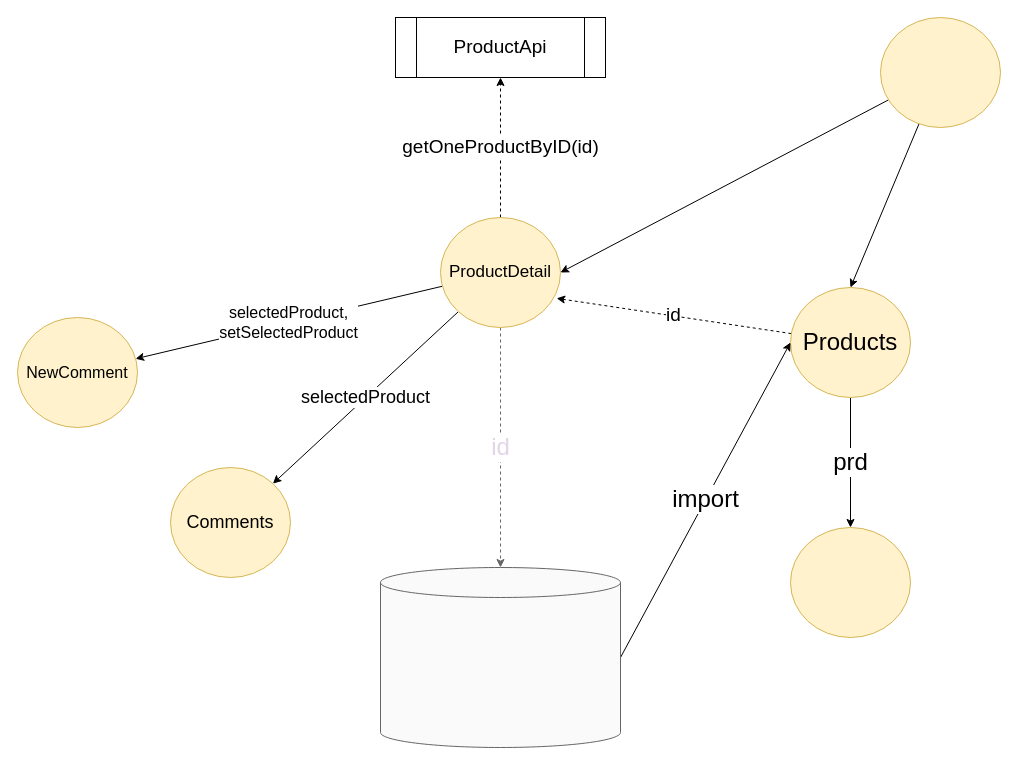
The diagram is 1018 pixels wide and 765 high, and some of its shapes have lost their labels. The shapes that lost their labels are listed below. From the top down, each one's centre as x and y in pixels, then its label:
At (x=940, y=72): "App".
At (x=850, y=582): "Product".
At (x=500, y=657): "Statis Dosya ProductData.js".
